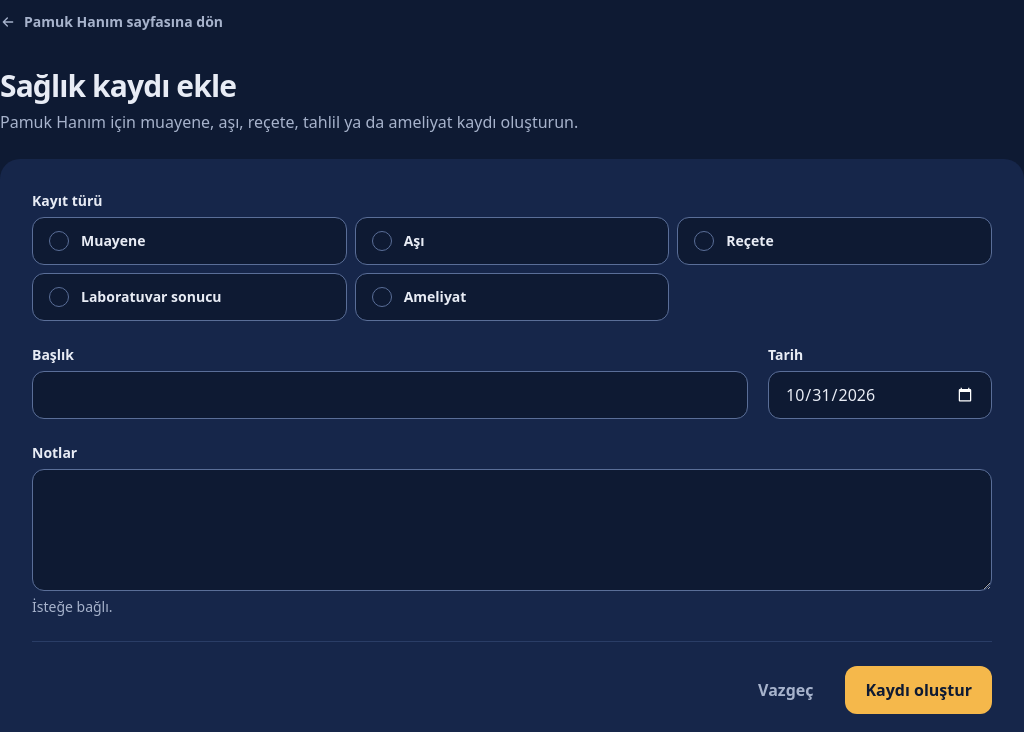
Test: RecordCreatePage › aşı kaydını oluşturur ve hasta sayfasına döner
Click the radio button labelled "Aşı" at (382, 241), box x1=372 y1=231 x2=392 y2=251
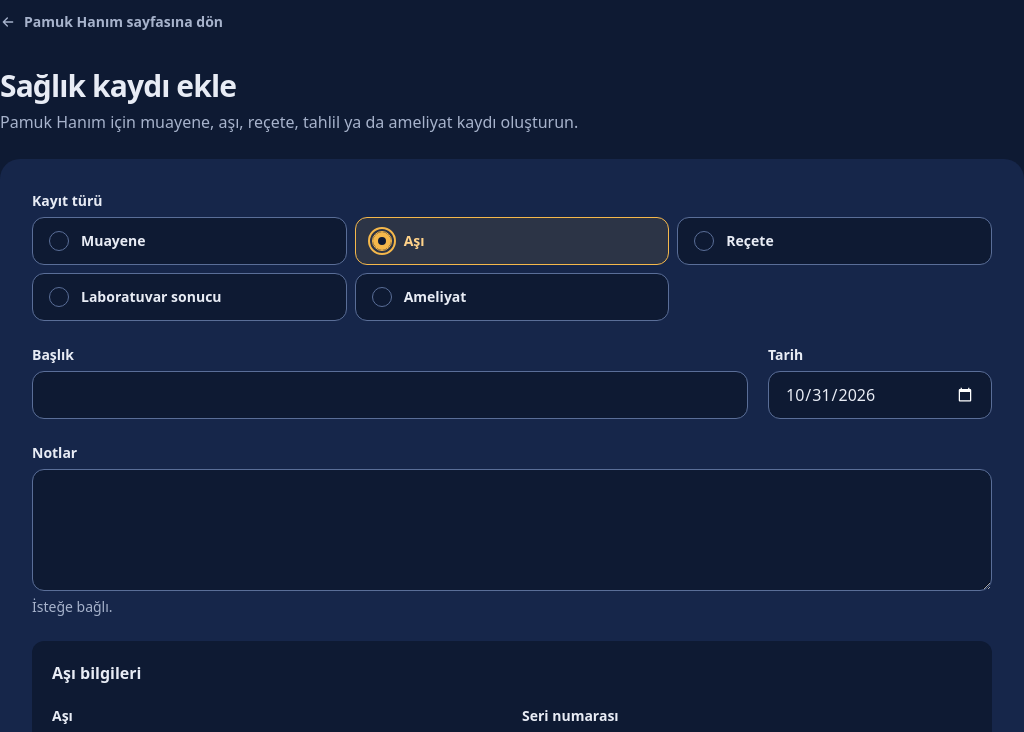
Type "Kuduz aşısı" into the field labelled "Başlık" at (390, 395), box x1=32 y1=371 x2=748 y2=419
(page scrolled)
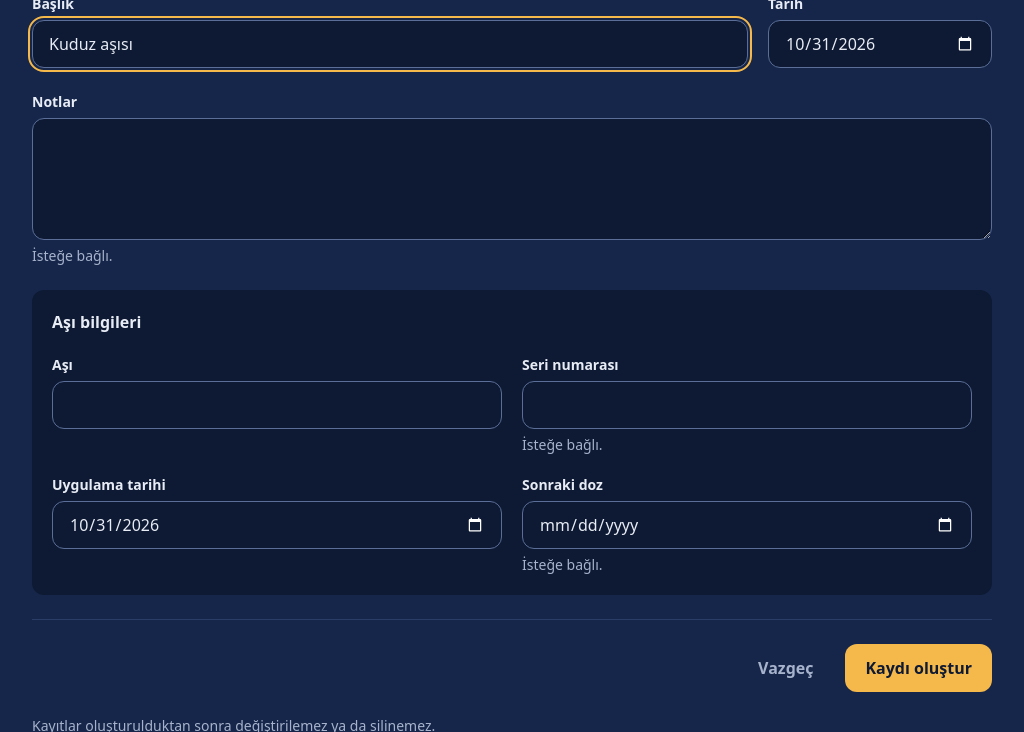
Type "Rabisin" into the field labelled "Aşı" at (277, 405), box x1=52 y1=381 x2=502 y2=429
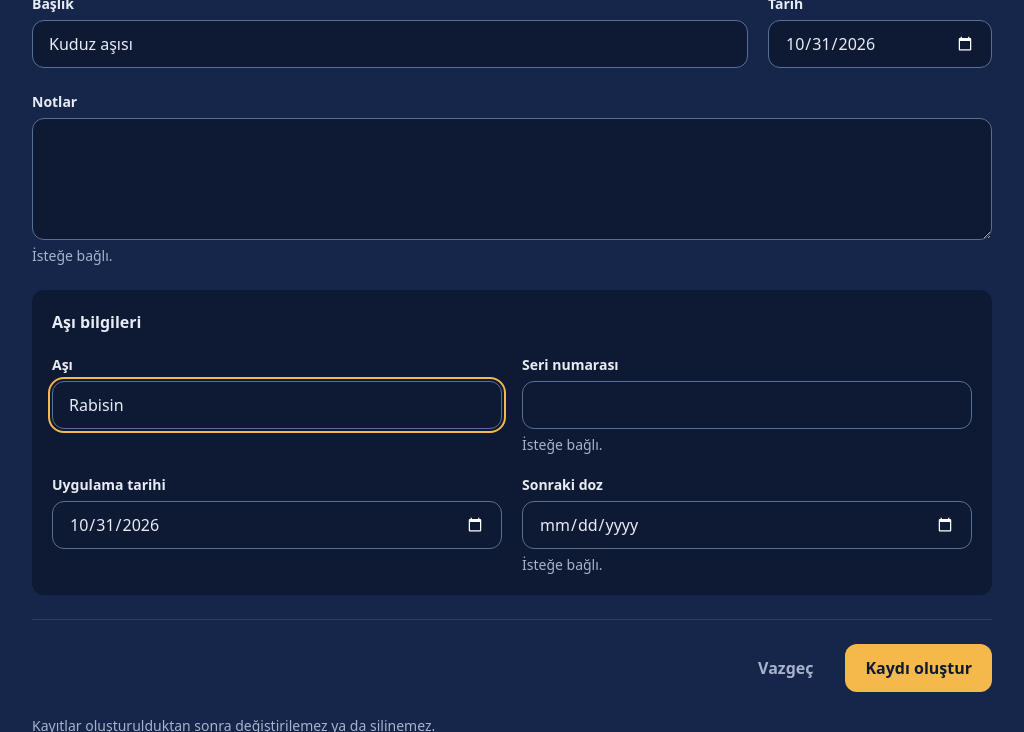
Type "2027-10-17" into the date field labelled "Sonraki doz" at (747, 525), box x1=522 y1=501 x2=972 y2=549
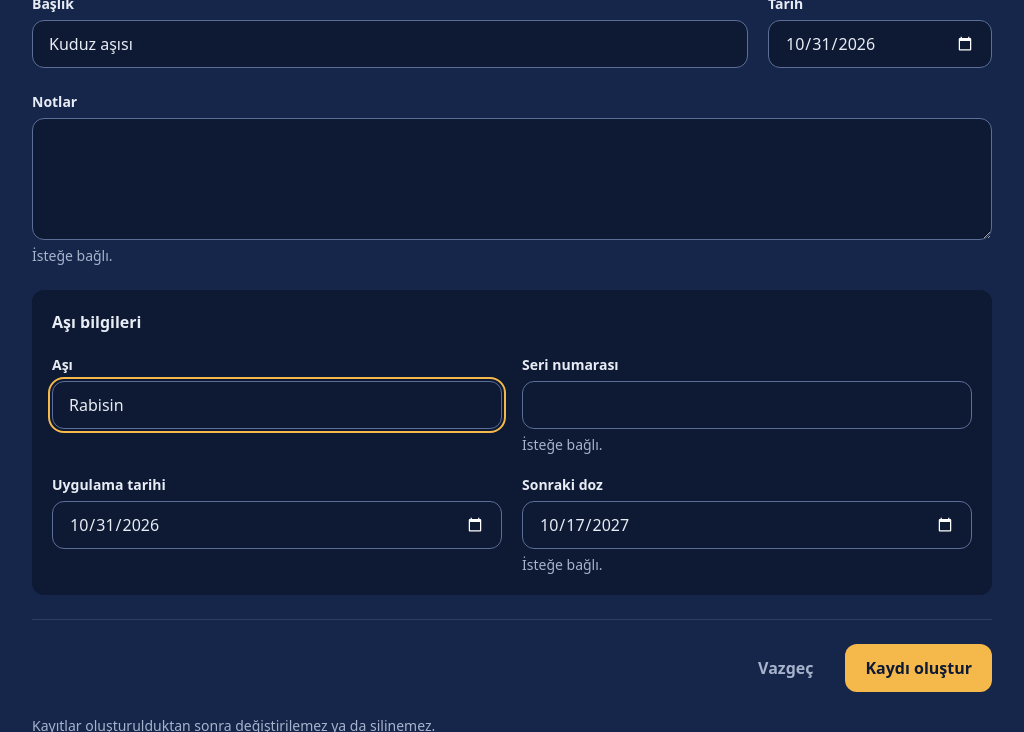
Click the button "Kaydı oluştur" at (919, 668), box x1=846 y1=644 x2=992 y2=692
(page scrolled)
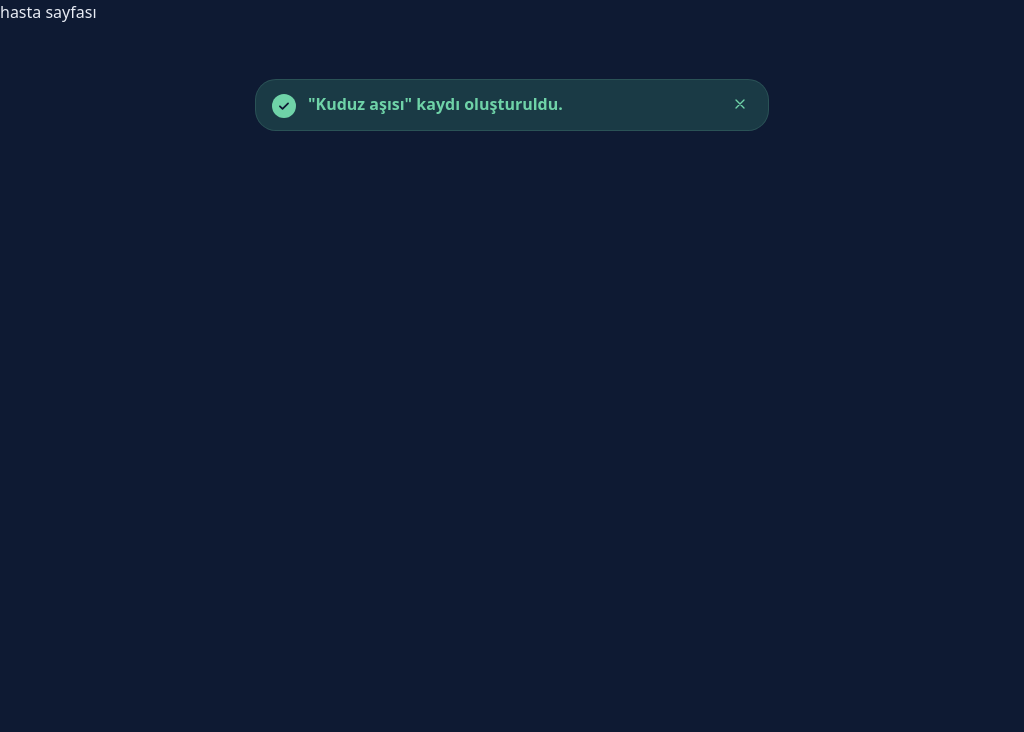
Now the text "hasta sayfası" is shown, box x1=0 y1=1 x2=96 y2=23
Now the text "\"Kuduz aşısı\" kaydı oluşturuldu." is shown, box x1=308 y1=93 x2=563 y2=115
